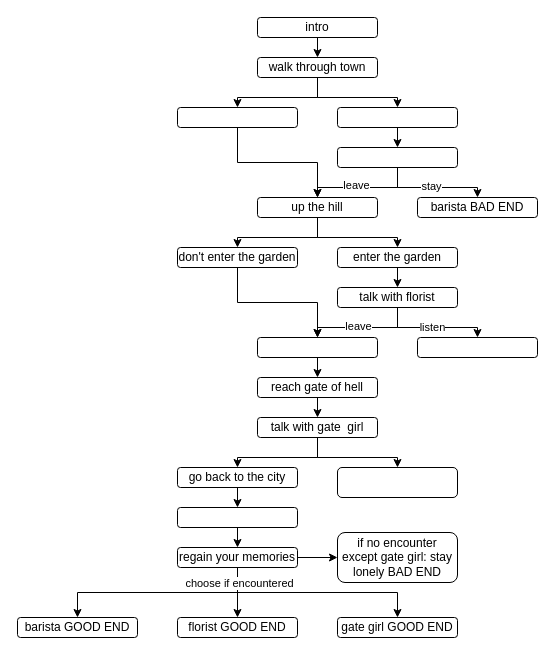
This 555x655 diagram has some shape labels left out. The shapes that lost their labels are listed below. From the top down, each one's box as (x1, y1, x2, y2) in pixels, then its label:
(176, 106, 298, 128): don't enter cafe
(336, 106, 458, 128): enter cafe
(336, 146, 458, 168): talk with barista
(256, 336, 378, 358): take the tram
(416, 336, 538, 358): florist BAD END
(336, 466, 458, 498): exit hell too early BAD END
(176, 506, 298, 528): find your apartment
